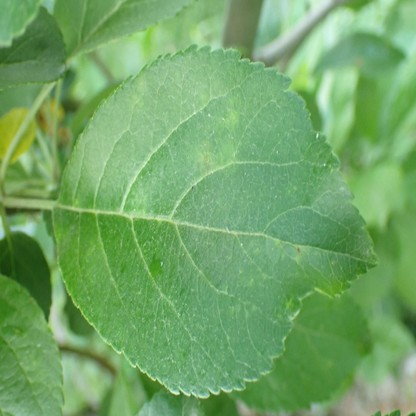scab: (219, 135, 238, 168), (129, 78, 147, 110), (190, 142, 212, 168), (131, 186, 148, 214), (218, 106, 239, 128), (294, 244, 307, 261), (229, 304, 240, 317), (244, 306, 249, 317), (253, 304, 258, 313)
